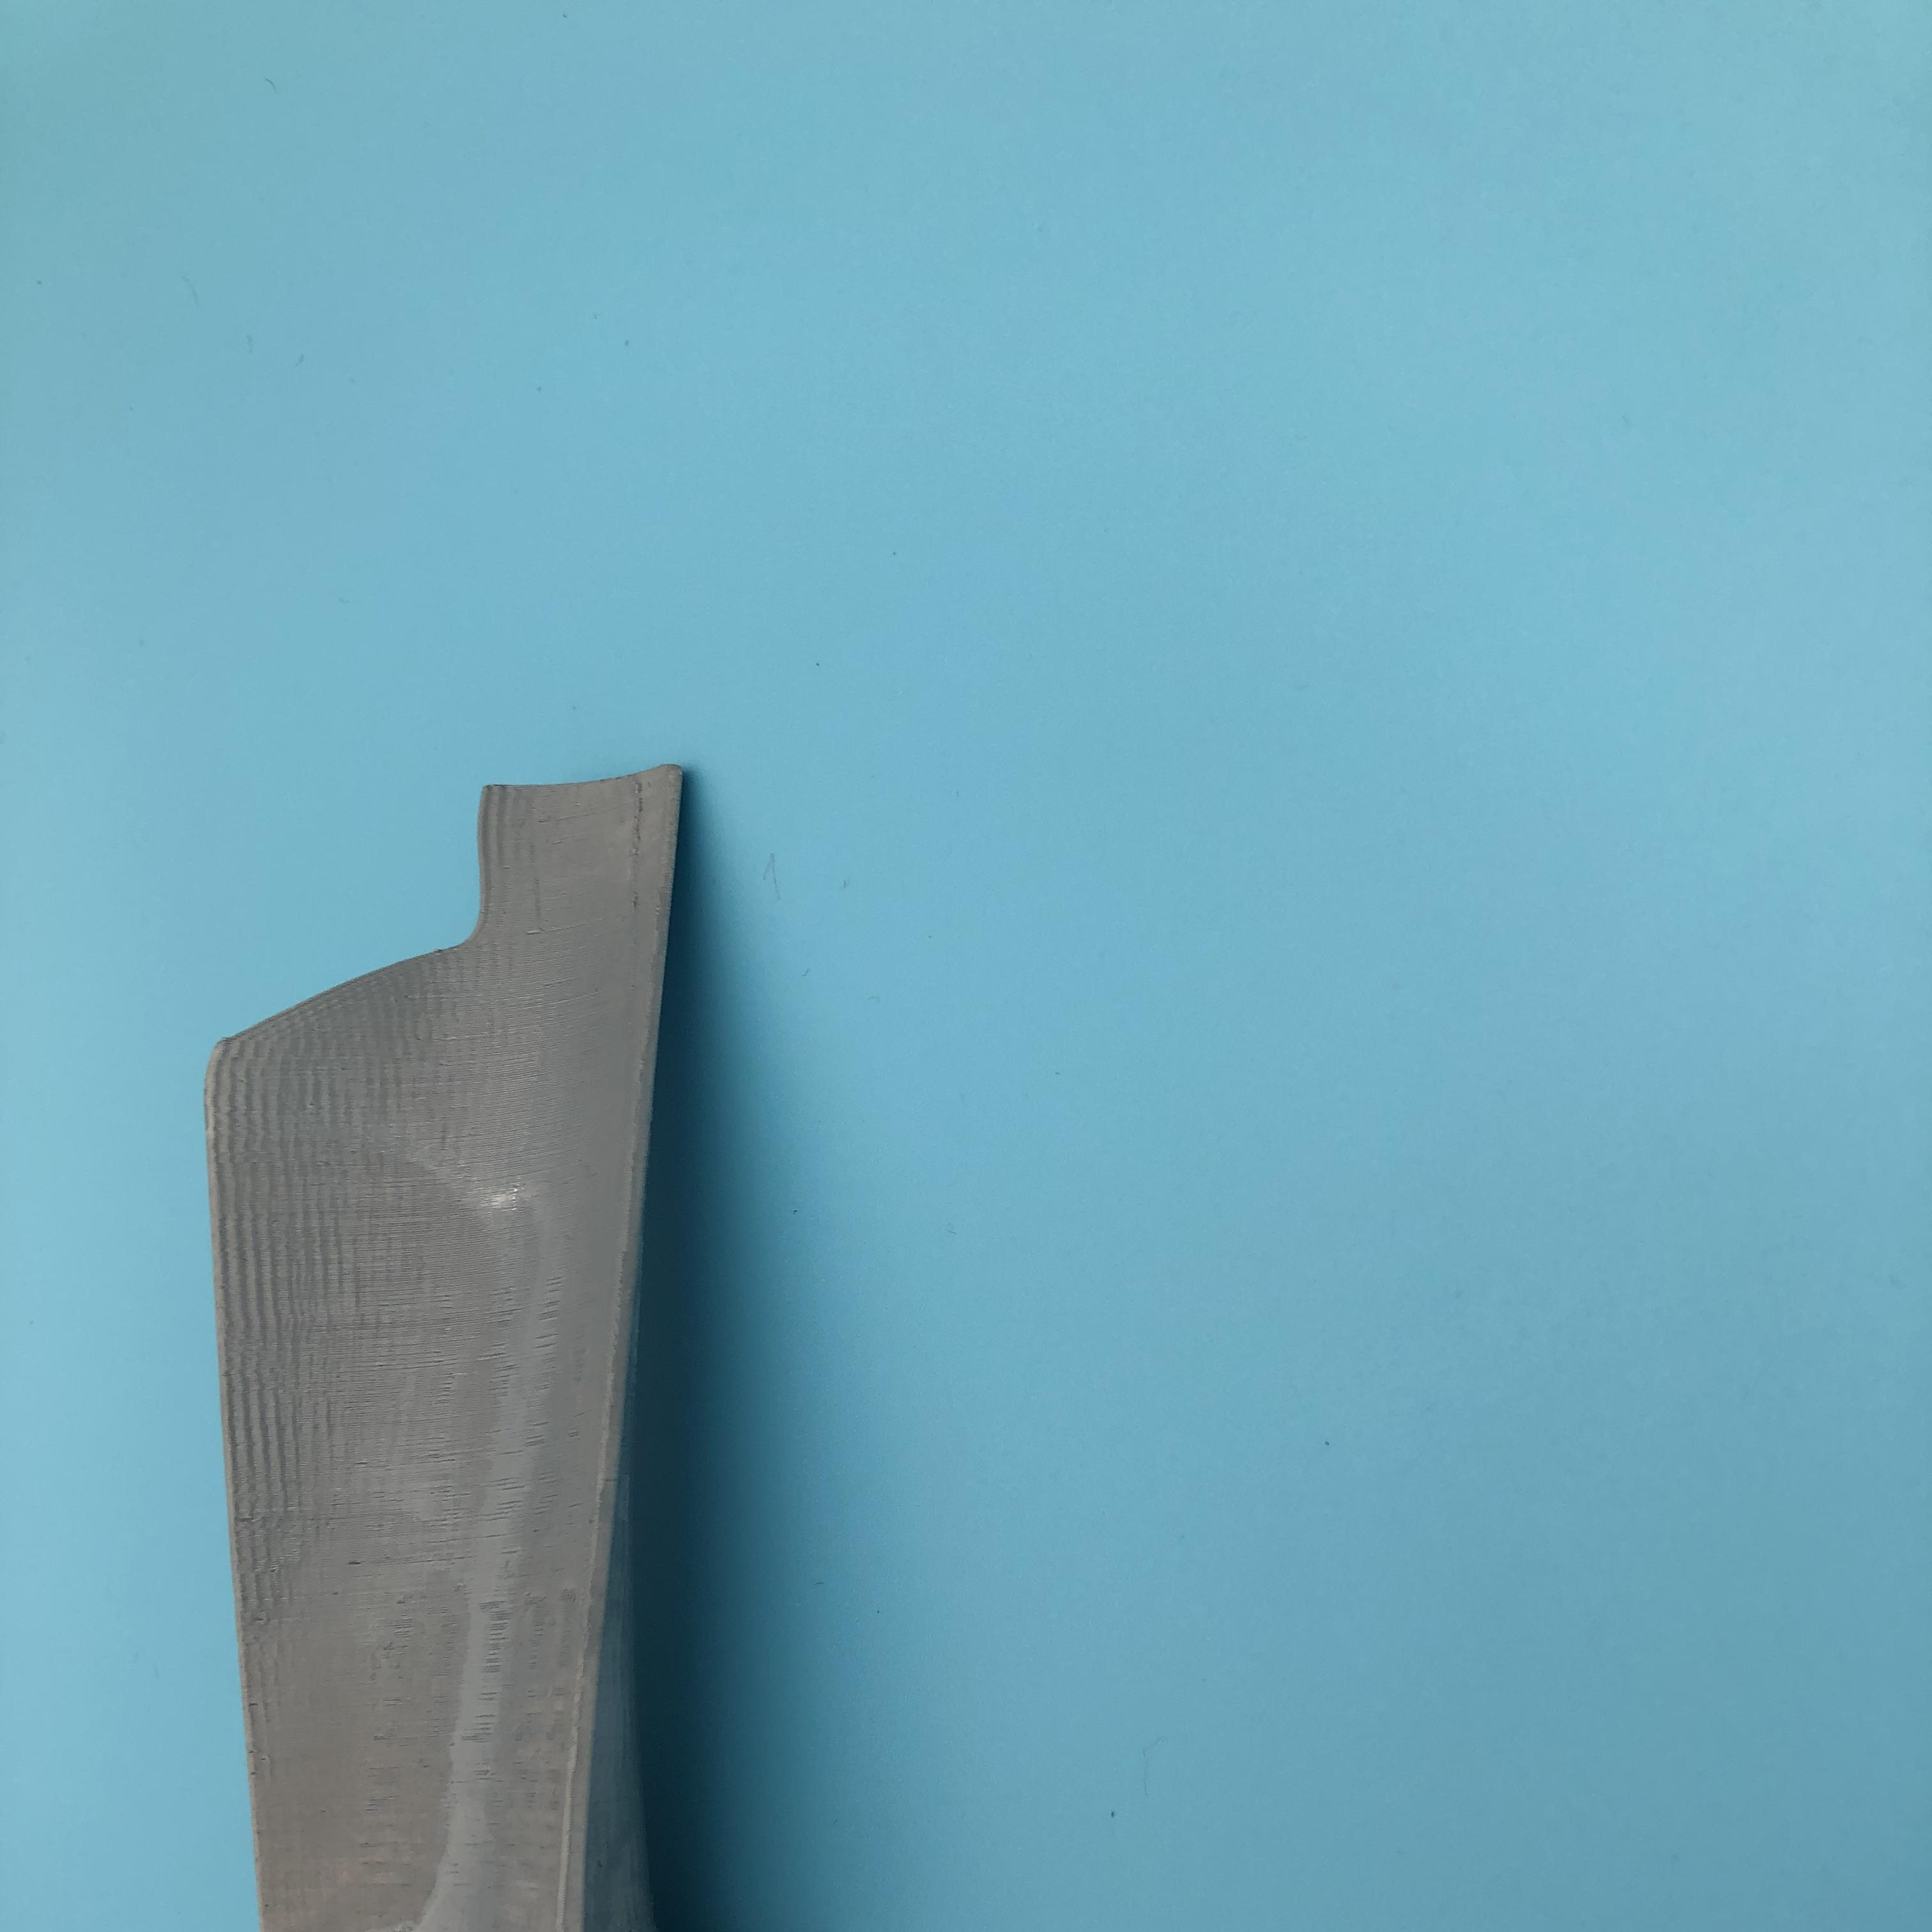fracture: (214, 832, 541, 1058)
